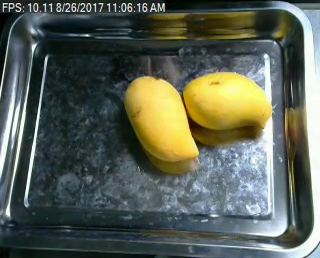Mango: (123, 66, 198, 165), (180, 68, 276, 132)
